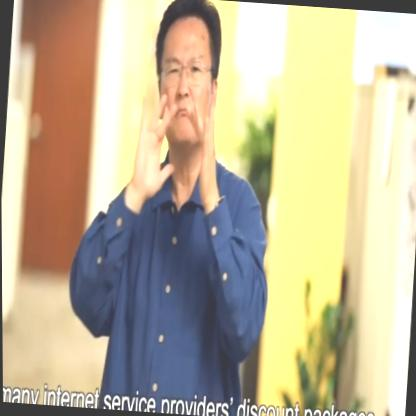Internet: (127, 71, 231, 200)
